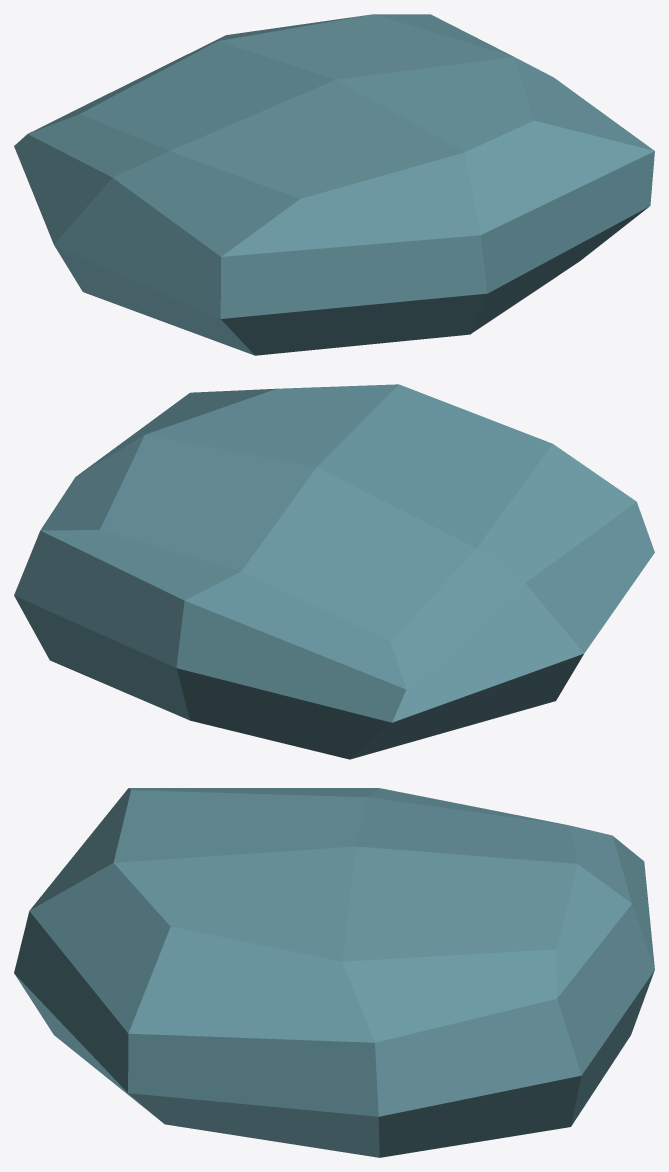
File: RockB.fbx
3 views of the same model, one above another, from view 1: azimuth 30°, elevation 25°; view 2: azimuth 150°, elevation 25°; view 3: azimuth 270°, elevation 25° (orthographic). The views are drawn at different scales.
Parts seen in each view (by area): view 1: Cube.011; view 2: Cube.011; view 3: Cube.011.
Part boxes in pixels (bbox=[...]): Cube.011: bbox=[14, 14, 654, 355]; Cube.011: bbox=[14, 384, 654, 759]; Cube.011: bbox=[14, 788, 654, 1157].
Size of the model in its own units: 62.03 by 20.46 by 56.69.
